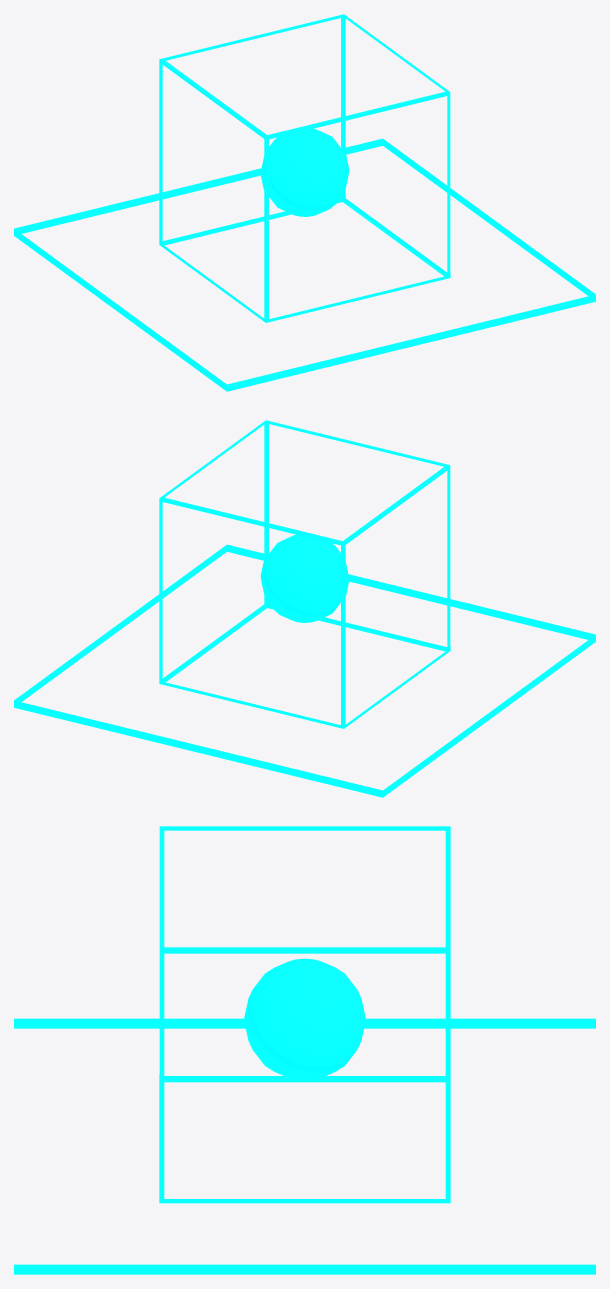
File: TableHologramEffect.fbx
3 renders of one model, top to bottom at view 1: azimuth 30°, elevation 25°; view 2: azimuth 150°, elevation 25°; view 3: azimuth 270°, elevation 25°, orthographic. The views are drawn at different scales.
Visible parts, largest first — view 1: TableHologramEffect; view 2: TableHologramEffect; view 3: TableHologramEffect.
Part boxes in pixels (<box>): TableHologramEffect: <box>14,14,595,391</box>; TableHologramEffect: <box>14,420,595,797</box>; TableHologramEffect: <box>14,826,595,1274</box>.
Size of the model in its own units: 40 by 20 by 40.
1 material, 1 textured.
